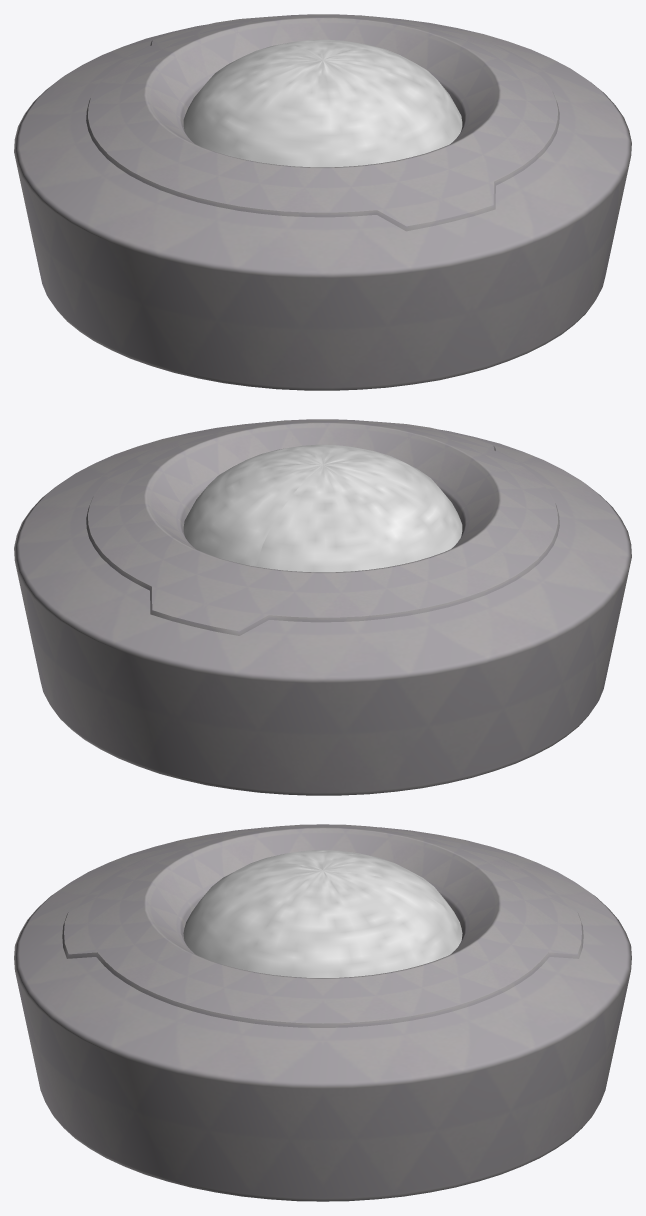
Rendered from pref_sm_beach_techstadium02_lv3.fbx.
The picture shows the model from 3 angles, top to bottom: view 1: azimuth 30°, elevation 25°; view 2: azimuth 150°, elevation 25°; view 3: azimuth 270°, elevation 25°; orthographic projection.
Parts seen in each view (by area): view 1: pref_sm_beach_techstadium02_lv3; view 2: pref_sm_beach_techstadium02_lv3; view 3: pref_sm_beach_techstadium02_lv3.
Boxes of the visible parts, x1,y1,x2,y2 form: pref_sm_beach_techstadium02_lv3: (14, 14, 631, 390); pref_sm_beach_techstadium02_lv3: (14, 419, 631, 795); pref_sm_beach_techstadium02_lv3: (14, 824, 631, 1201).
Size of the model in its own units: 27.09 by 10.25 by 27.05.
